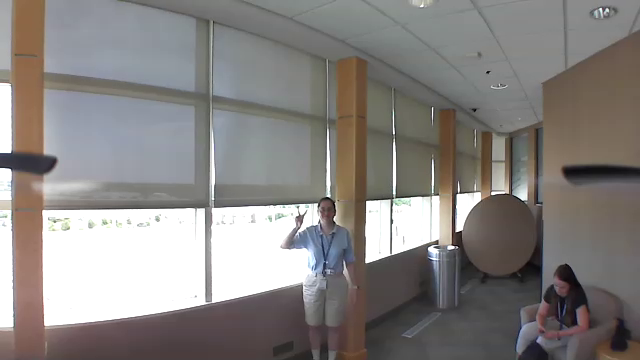peace: (290, 201, 309, 230)
